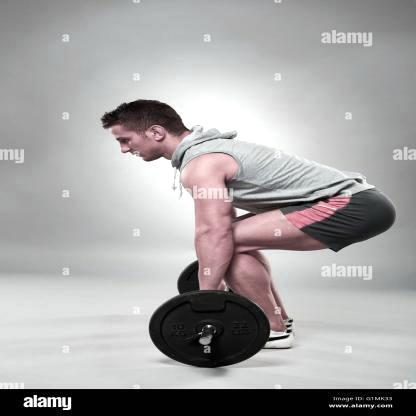Barbell: (183, 328, 224, 351)
